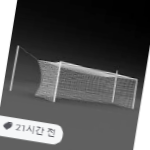goals: (35, 56, 139, 110)
